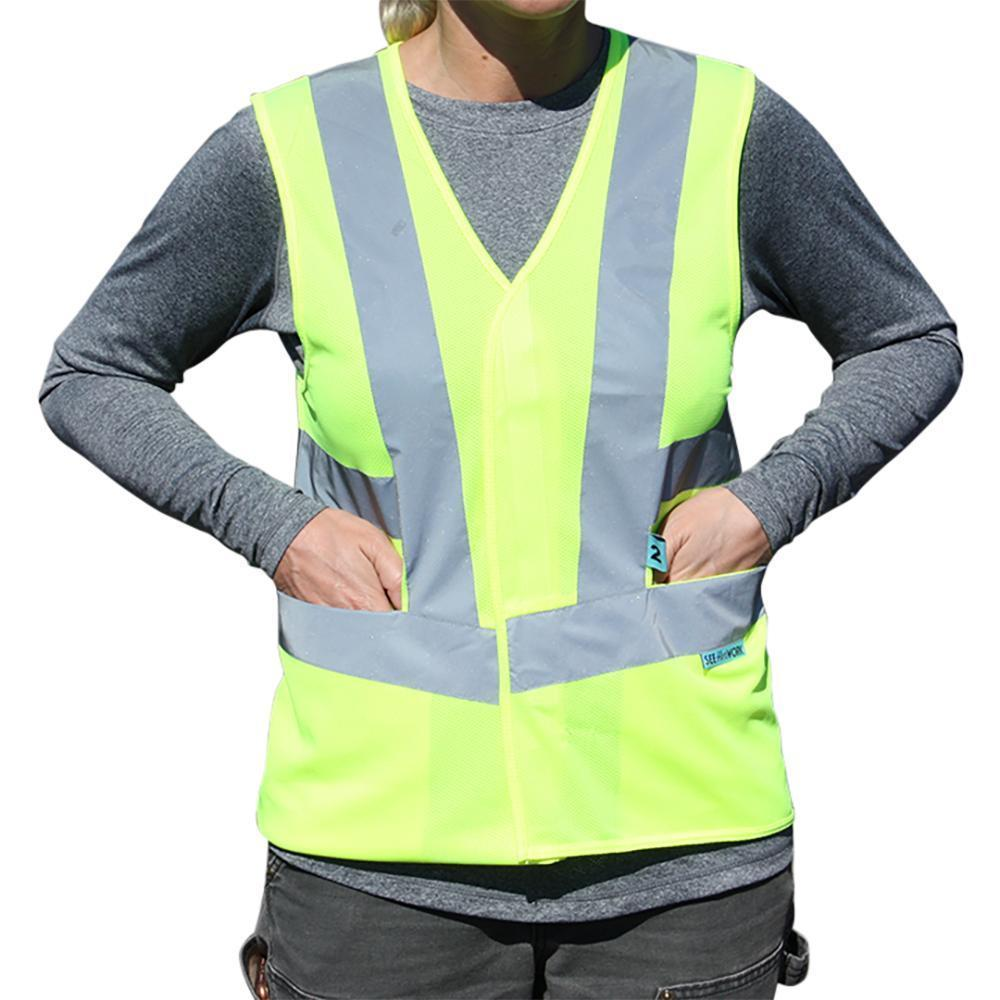Glass: (258, 44, 762, 866)
